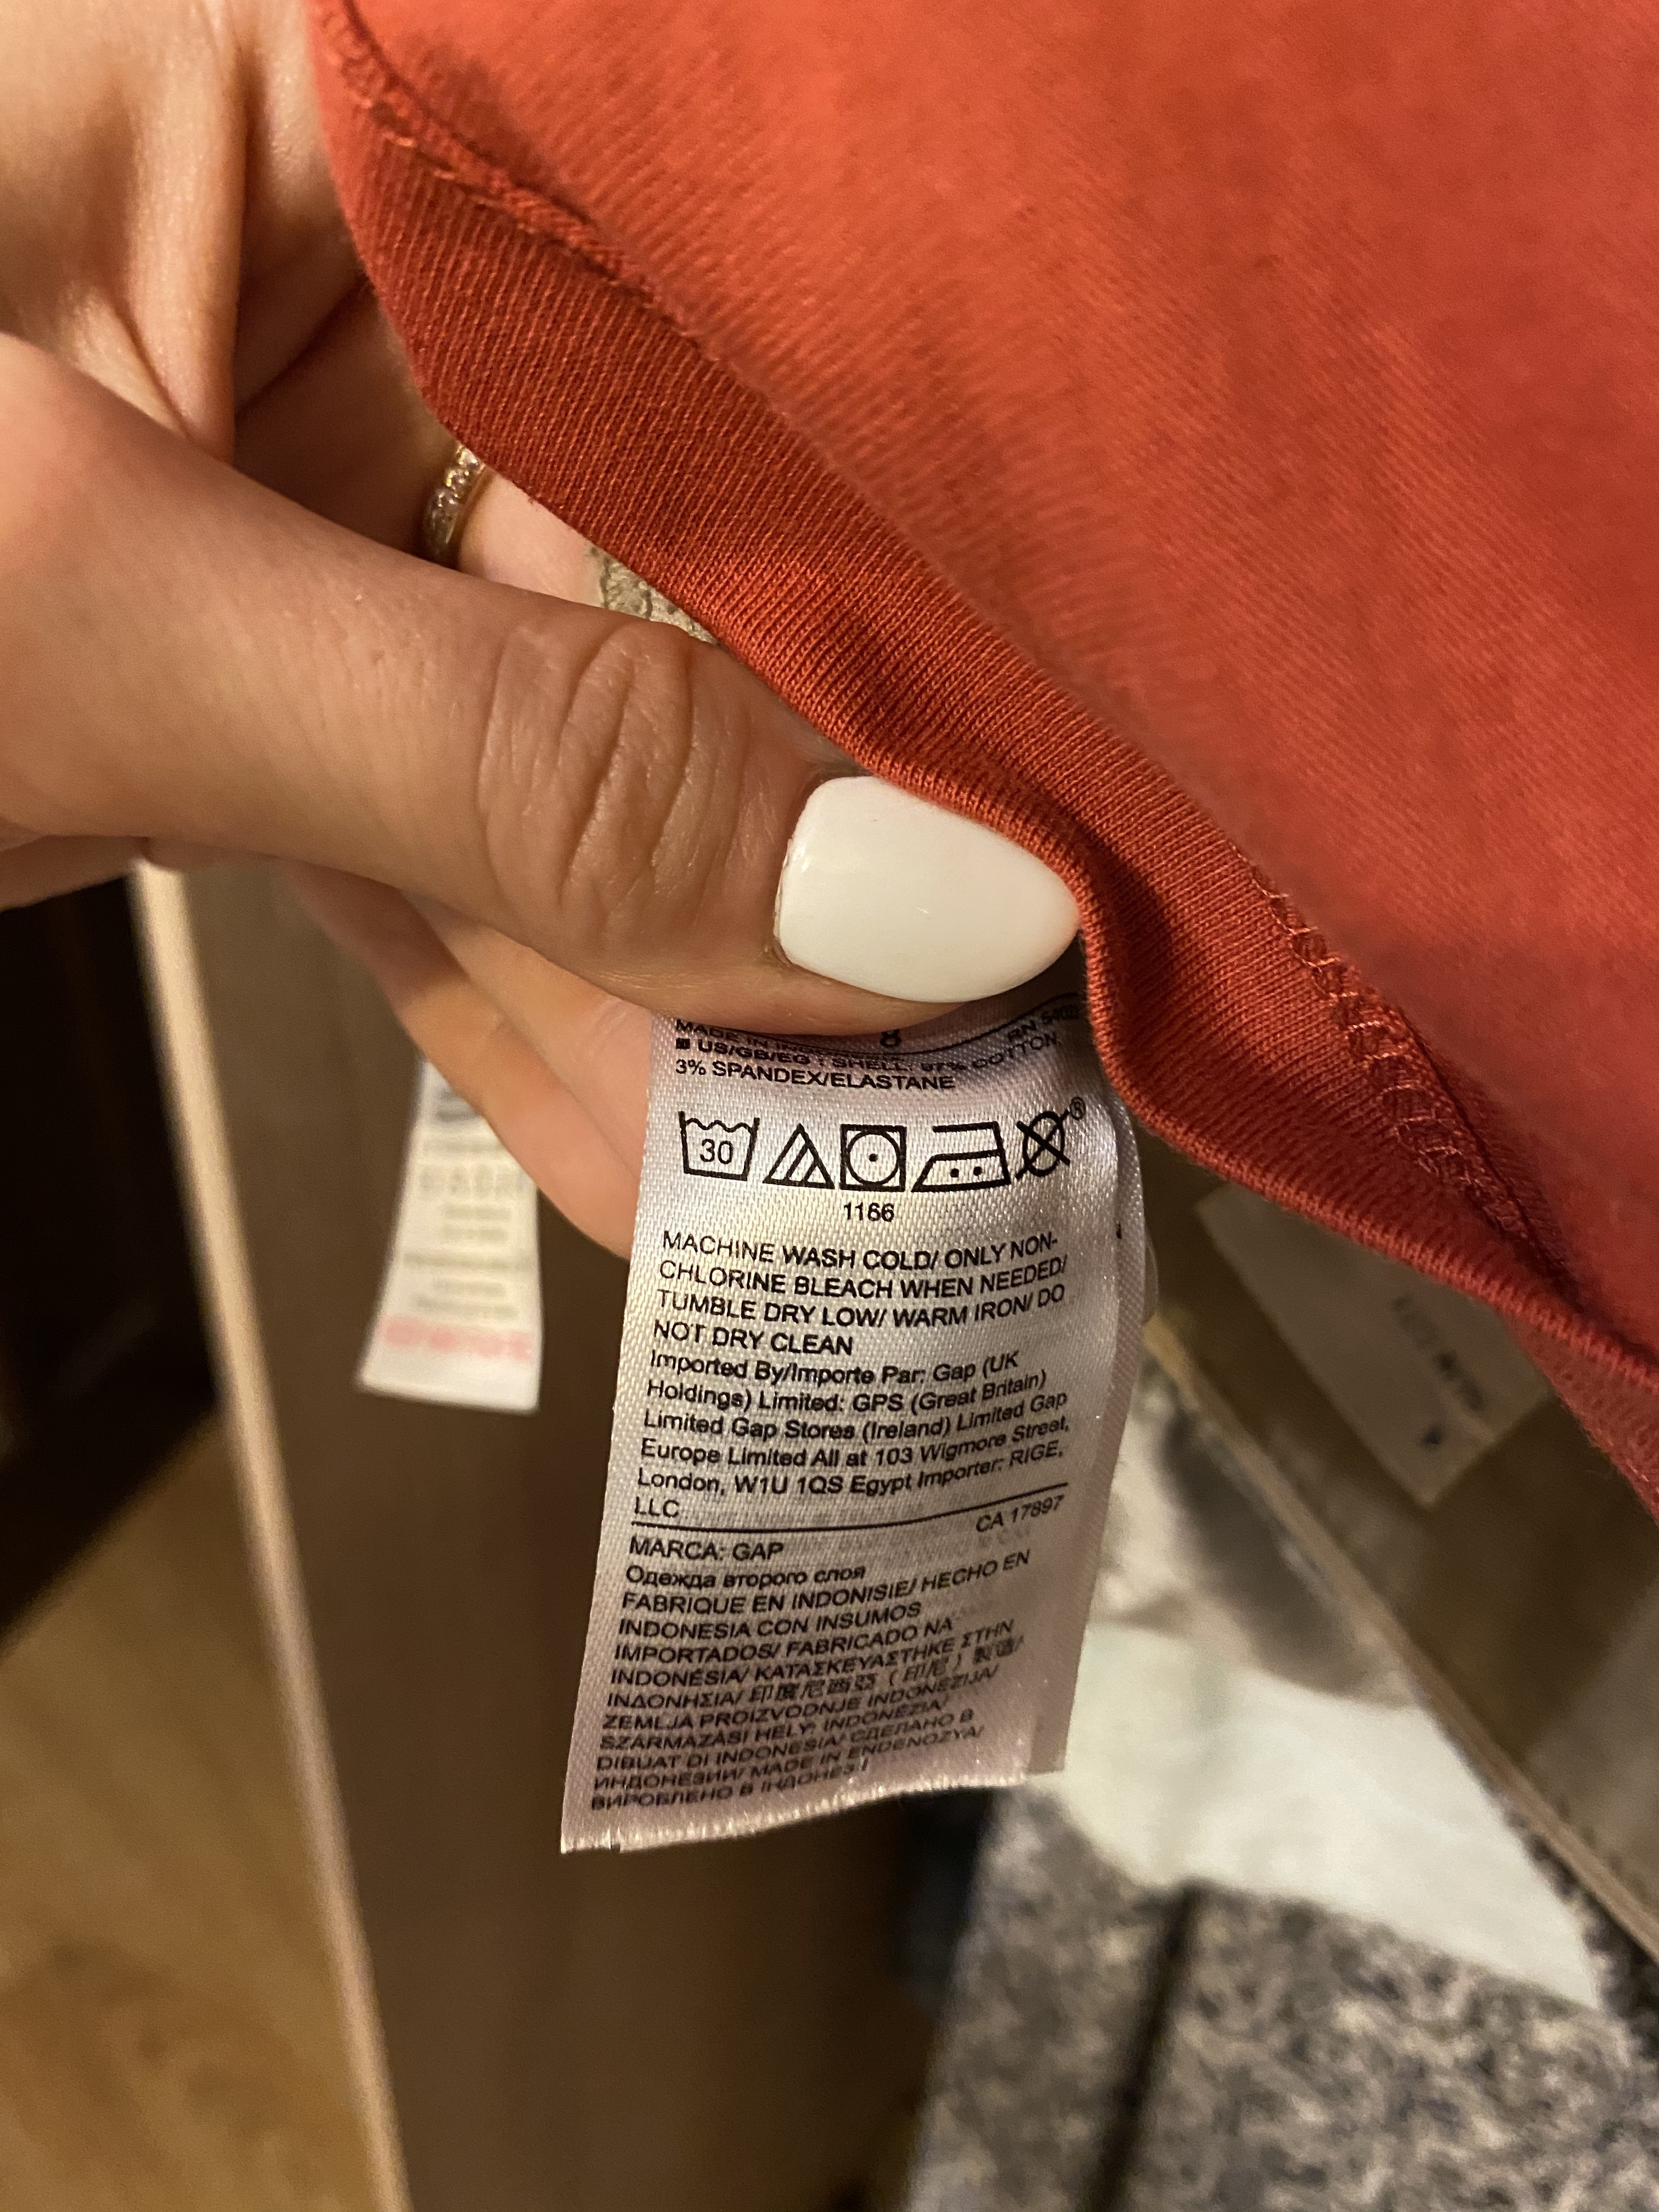do_not_dry_clean: (1012, 1109, 1070, 1183)
ironing_at_med_temp: (911, 1118, 1011, 1195)
non_chlorine_bleach_when_needed: (765, 1122, 835, 1188)
tumble_drying_low_temps: (835, 1122, 913, 1197)
wash_at_or_below_30: (676, 1109, 765, 1181)
